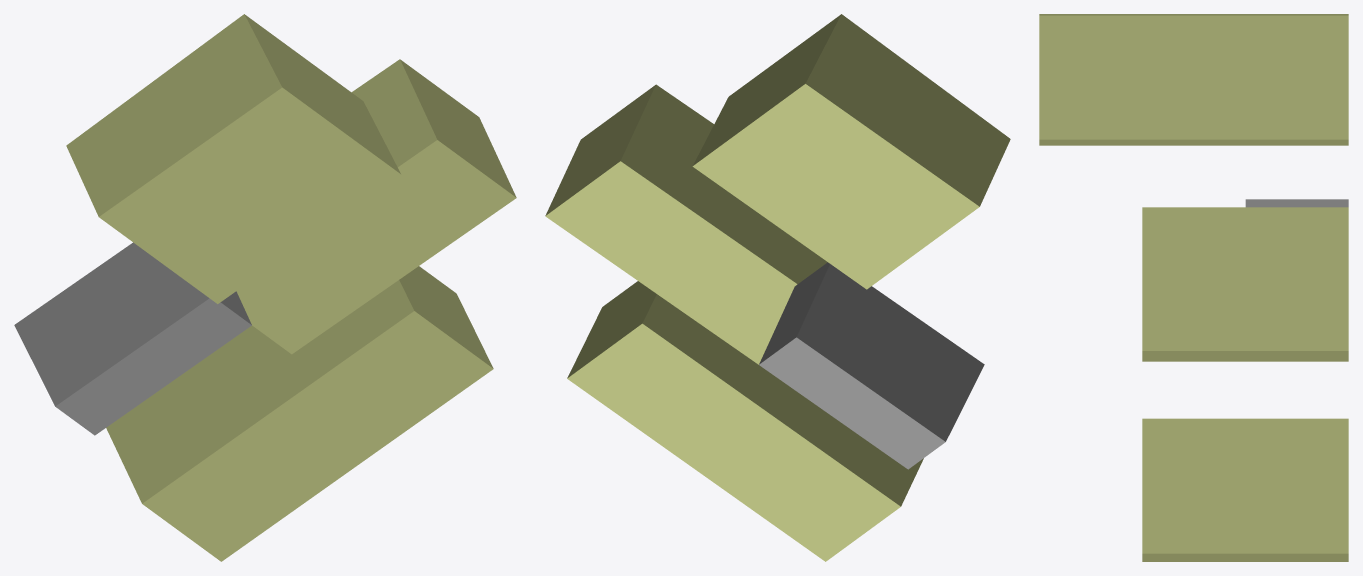
The picture shows the model from 3 angles, left to right: view 1: azimuth 30°, elevation 25°; view 2: azimuth 150°, elevation 25°; view 3: azimuth 270°, elevation 25°; orthographic projection. The views are drawn at different scales.
Parts seen in each view (by area): view 1: 0_1_0_0_0_1_2_2_0_1; view 2: 0_1_0_0_0_1_2_2_0_1; view 3: 0_1_0_0_0_1_2_2_0_1.
Part boxes in pixels (x1,y1,x2,y2): 0_1_0_0_0_1_2_2_0_1: (14, 14, 516, 561); 0_1_0_0_0_1_2_2_0_1: (545, 14, 1010, 561); 0_1_0_0_0_1_2_2_0_1: (1039, 14, 1348, 561).
Bounding box in the file's own units: 18.47 × 19.39 × 9.
